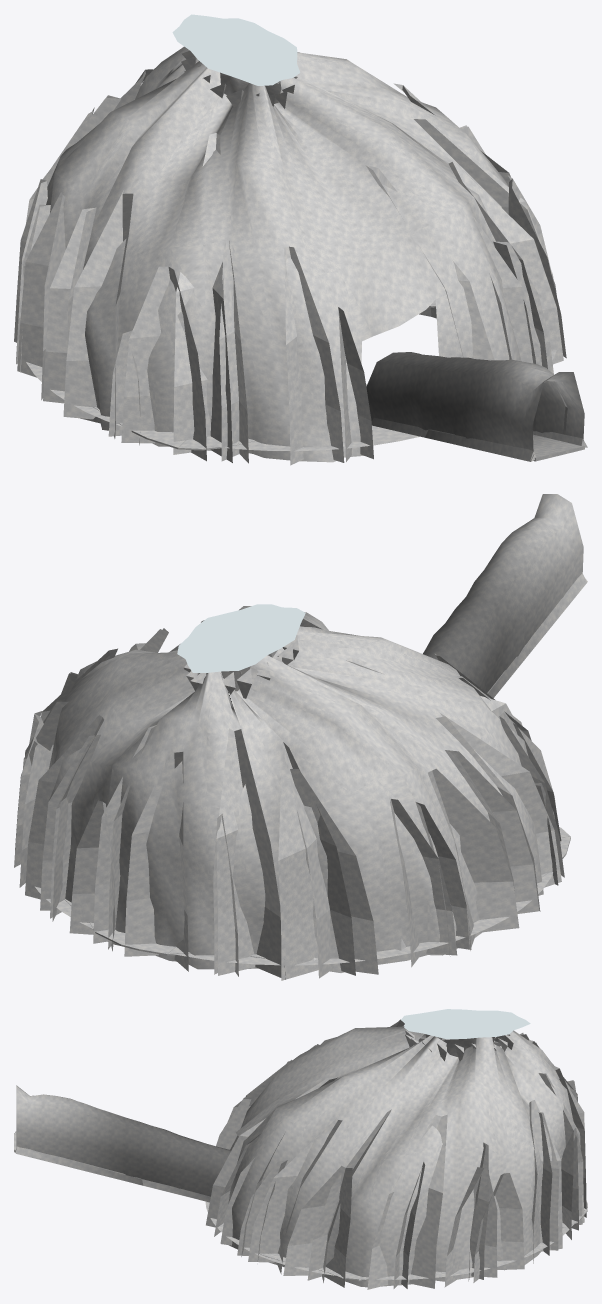
The model's file is cavern-structure.glb.
The picture shows the model from 3 angles, top to bottom: view 1: azimuth 30°, elevation 25°; view 2: azimuth 150°, elevation 25°; view 3: azimuth 270°, elevation 25°; orthographic projection. The views are drawn at different scales.
Visible parts, largest first — view 1: CavernStructure_Rock, Cavern_Oculus; view 2: CavernStructure_Rock, Cavern_Oculus; view 3: CavernStructure_Rock, Cavern_Oculus.
Boxes of the visible parts, x1=… form: CavernStructure_Rock: x1=14, y1=46, x2=587, y2=465; Cavern_Oculus: x1=172, y1=14, x2=300, y2=85; CavernStructure_Rock: x1=14, y1=494, x2=587, y2=980; Cavern_Oculus: x1=177, y1=604, x2=305, y2=672; CavernStructure_Rock: x1=14, y1=1019, x2=587, y2=1289; Cavern_Oculus: x1=401, y1=1009, x2=530, y2=1039.
Size of what is drawn, in the model's own units: 55.33 by 29.4 by 82.06.
Materials: 2 (1 with a texture image).
